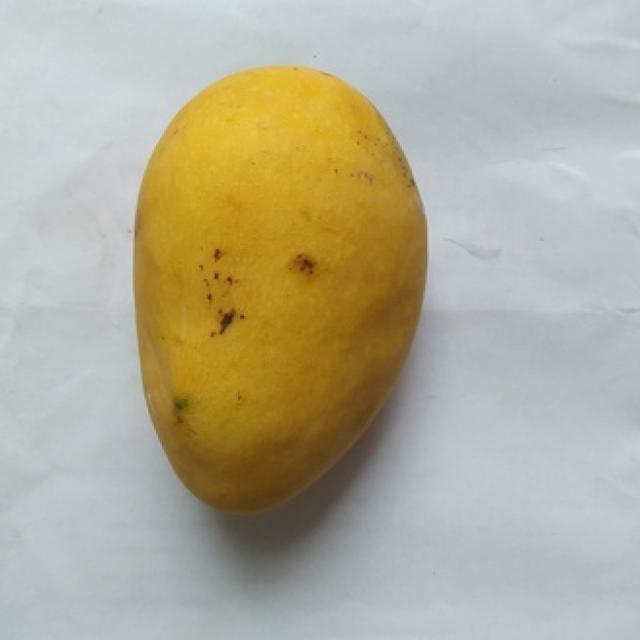Mango: (135, 67, 425, 511)
